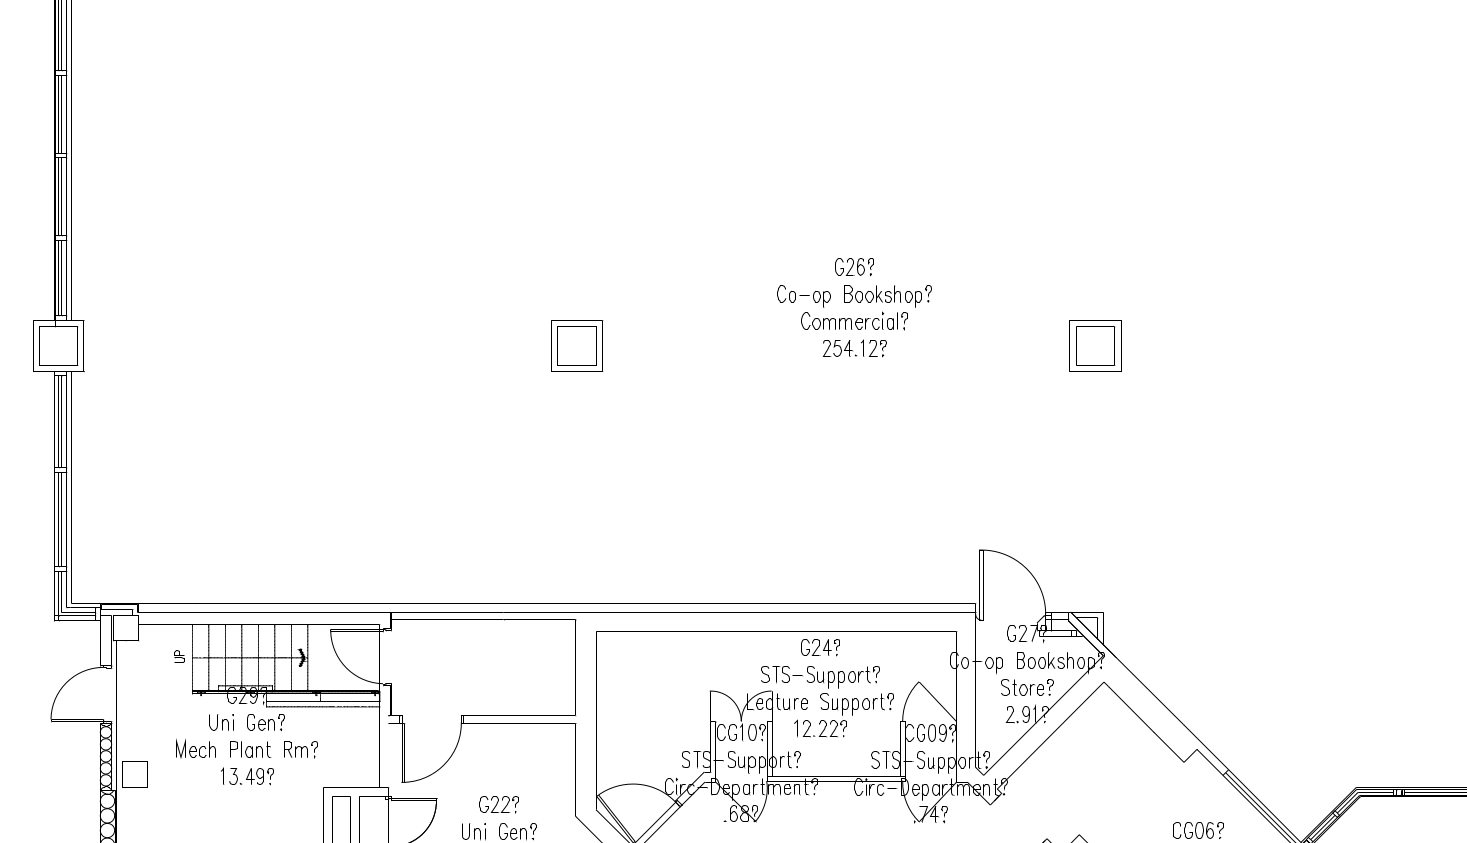door: (976, 533, 1053, 620), (396, 725, 464, 792), (46, 656, 101, 732), (325, 626, 378, 687), (386, 794, 449, 843)
